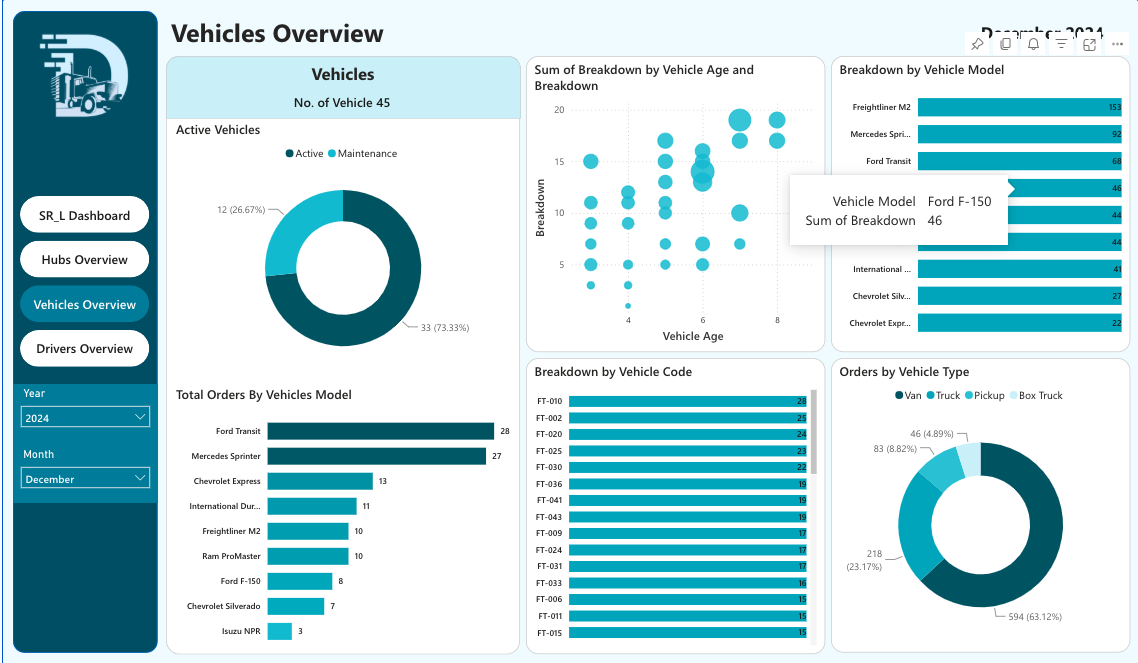

What the dashboard file says about the page in this screenshot:
{"tool":"powerbi","page":{"name":"Vehicles Overview","canvas":[1450,850],"ordinal":2},"visuals":[{"type":"shape","box":[14.1,15.4,184.6,819.2],"z":0,"group":"g1"},{"type":"textbox","box":[210.3,15.4,503.8,57.7],"z":0},{"type":"shape","box":[209.9,72.3,452,764],"z":1000},{"type":"shape","box":[208.8,72.3,453.1,80.3],"z":2000},{"type":"cardVisual","title":"No of Hubs","fields":{"Data":["Orders.Year Month Title"]},"box":[1225.7,15.3,206.8,52.5],"z":3000},{"type":"slicer","fields":{"Values":["Date Table.Year"]},"box":[13.7,491.1,185,78.8],"z":3000,"group":"g1"},{"type":"textbox","box":[387.9,75.2,94.3,44.2],"z":4000},{"type":"slicer","fields":{"Values":["Date Table.Month"]},"box":[13.7,569.9,185,74.2],"z":4000,"group":"g1"},{"type":"cardVisual","title":"No of Hubs","fields":{"Data":["Vehicles.No. of Vehicle"]},"box":[348.5,107.4,173,44.2],"z":5000},{"type":"donutChart","title":"Active Vehicles","fields":{"Category":["Vehicles.Vehicle Status"],"Y":["CountNonNull(Vehicles.Vehicle ID)"]},"box":[217.2,156.3,436.8,325.8],"z":6000},{"type":"barChart","title":"Total Orders By Vehicles Model","fields":{"Category":["Vehicles.Vehicle Model"],"Y":["Orders.Total Orders"]},"box":[217.2,494.1,436.8,342.5],"z":7000},{"type":"scatterChart","title":"Sum of Breakdown by Vehicle Age and Breakdown","fields":{"Size":["Sum(Vehicles.Breakdown)1"],"X":["Vehicles.Vehicle Age"],"Y":["Vehicles.Breakdown"]},"box":[668.6,73.3,382,377.5],"z":8000},{"type":"barChart","title":"Breakdown by Vehicle Code","fields":{"Category":["Vehicles.Vehicle Code"],"Y":["Sum(Vehicles.Breakdown)"]},"box":[668.6,458.5,382,377.5],"z":9000},{"type":"barChart","title":"Breakdown by Vehicle Model","fields":{"Category":["Vehicles.Vehicle Model"],"Y":["Sum(Vehicles.Breakdown)"]},"box":[1058,72.2,381.9,377.5],"z":10000},{"type":"donutChart","title":"Orders by Vehicle Type","fields":{"Category":["Orders.Vehicle Type"],"Y":["Orders.Total Orders"]},"box":[1058.2,458.5,381.9,376.5],"z":11000},{"type":"group","id":"g1","title":"Group 1","box":[13.7,15.4,185,819.2],"z":12000},{"type":"image","box":[32,33.1,148.4,138.1],"z":23000,"group":"g1"},{"type":"pageNavigator","box":[22.8,251.2,165.6,220.4],"z":25000,"group":"g1"}]}

Visuals, with their boxes on the page's 1450x850 design canvas (x1, y1, x2, y2). These are canvas units, not pixel positions in the 1138x663 screenshot, which may show the page scaled, cropped or inside an application window:
shape: (x1=14, y1=15, x2=199, y2=835)
textbox: (x1=210, y1=15, x2=714, y2=73)
shape: (x1=210, y1=72, x2=662, y2=836)
shape: (x1=209, y1=72, x2=662, y2=153)
"No of Hubs" cardVisual: (x1=1226, y1=15, x2=1432, y2=68)
slicer - Date Table.Year: (x1=14, y1=491, x2=199, y2=570)
textbox: (x1=388, y1=75, x2=482, y2=119)
slicer - Date Table.Month: (x1=14, y1=570, x2=199, y2=644)
"No of Hubs" cardVisual: (x1=348, y1=107, x2=522, y2=152)
"Active Vehicles" donutChart: (x1=217, y1=156, x2=654, y2=482)
"Total Orders By Vehicles Model" barChart: (x1=217, y1=494, x2=654, y2=837)
"Sum of Breakdown by Vehicle Age and Breakdown" scatterChart: (x1=669, y1=73, x2=1051, y2=451)
"Breakdown by Vehicle Code" barChart: (x1=669, y1=458, x2=1051, y2=836)
"Breakdown by Vehicle Model" barChart: (x1=1058, y1=72, x2=1440, y2=450)
"Orders by Vehicle Type" donutChart: (x1=1058, y1=458, x2=1440, y2=835)
"Group 1" group: (x1=14, y1=15, x2=199, y2=835)
image: (x1=32, y1=33, x2=180, y2=171)
pageNavigator: (x1=23, y1=251, x2=188, y2=472)
